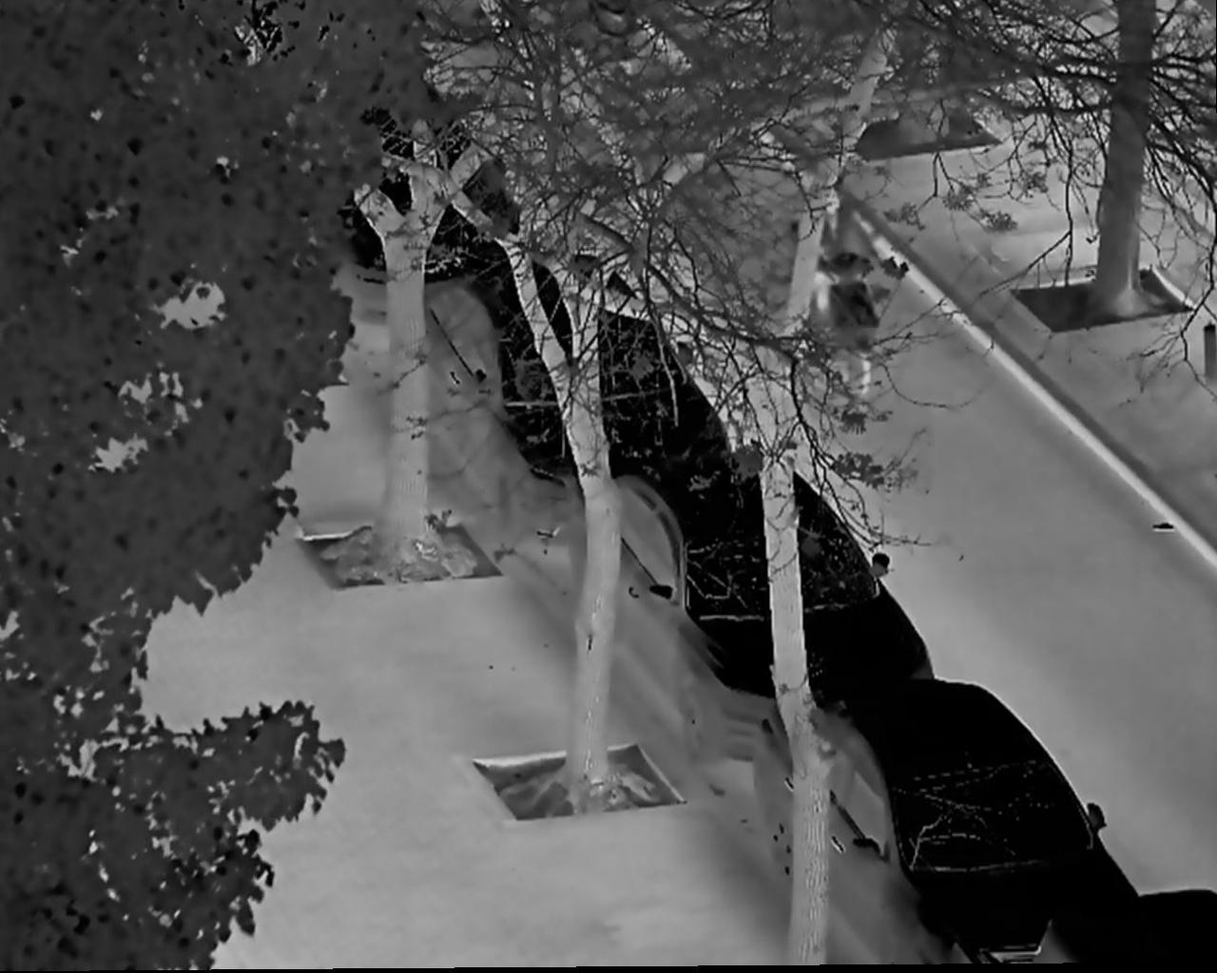person: (795, 188, 898, 338)
